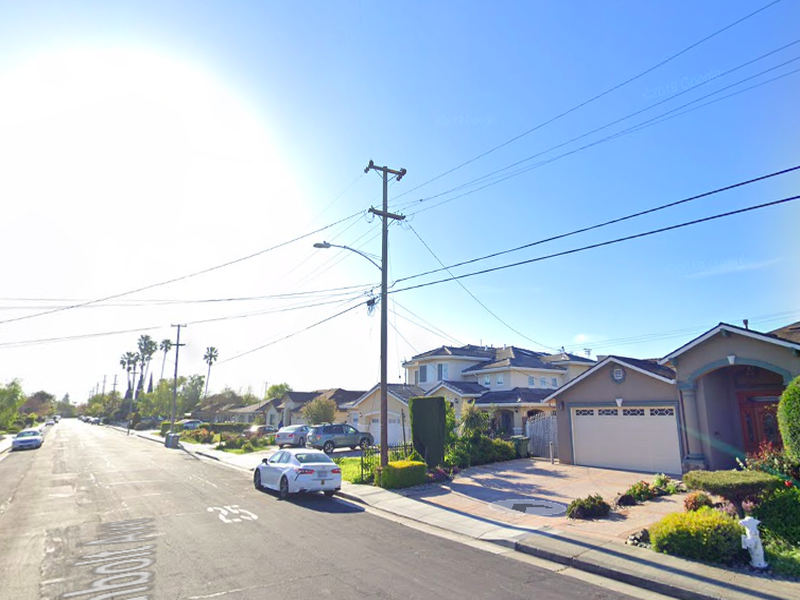utility_pole: (356, 152, 412, 236)
